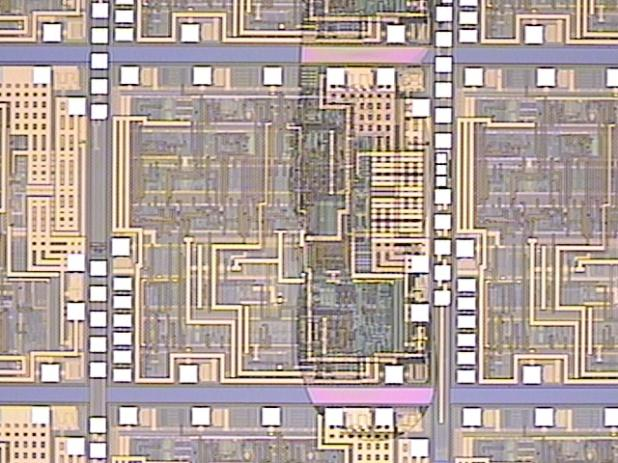COATING BAD: (289, 1, 451, 443)
